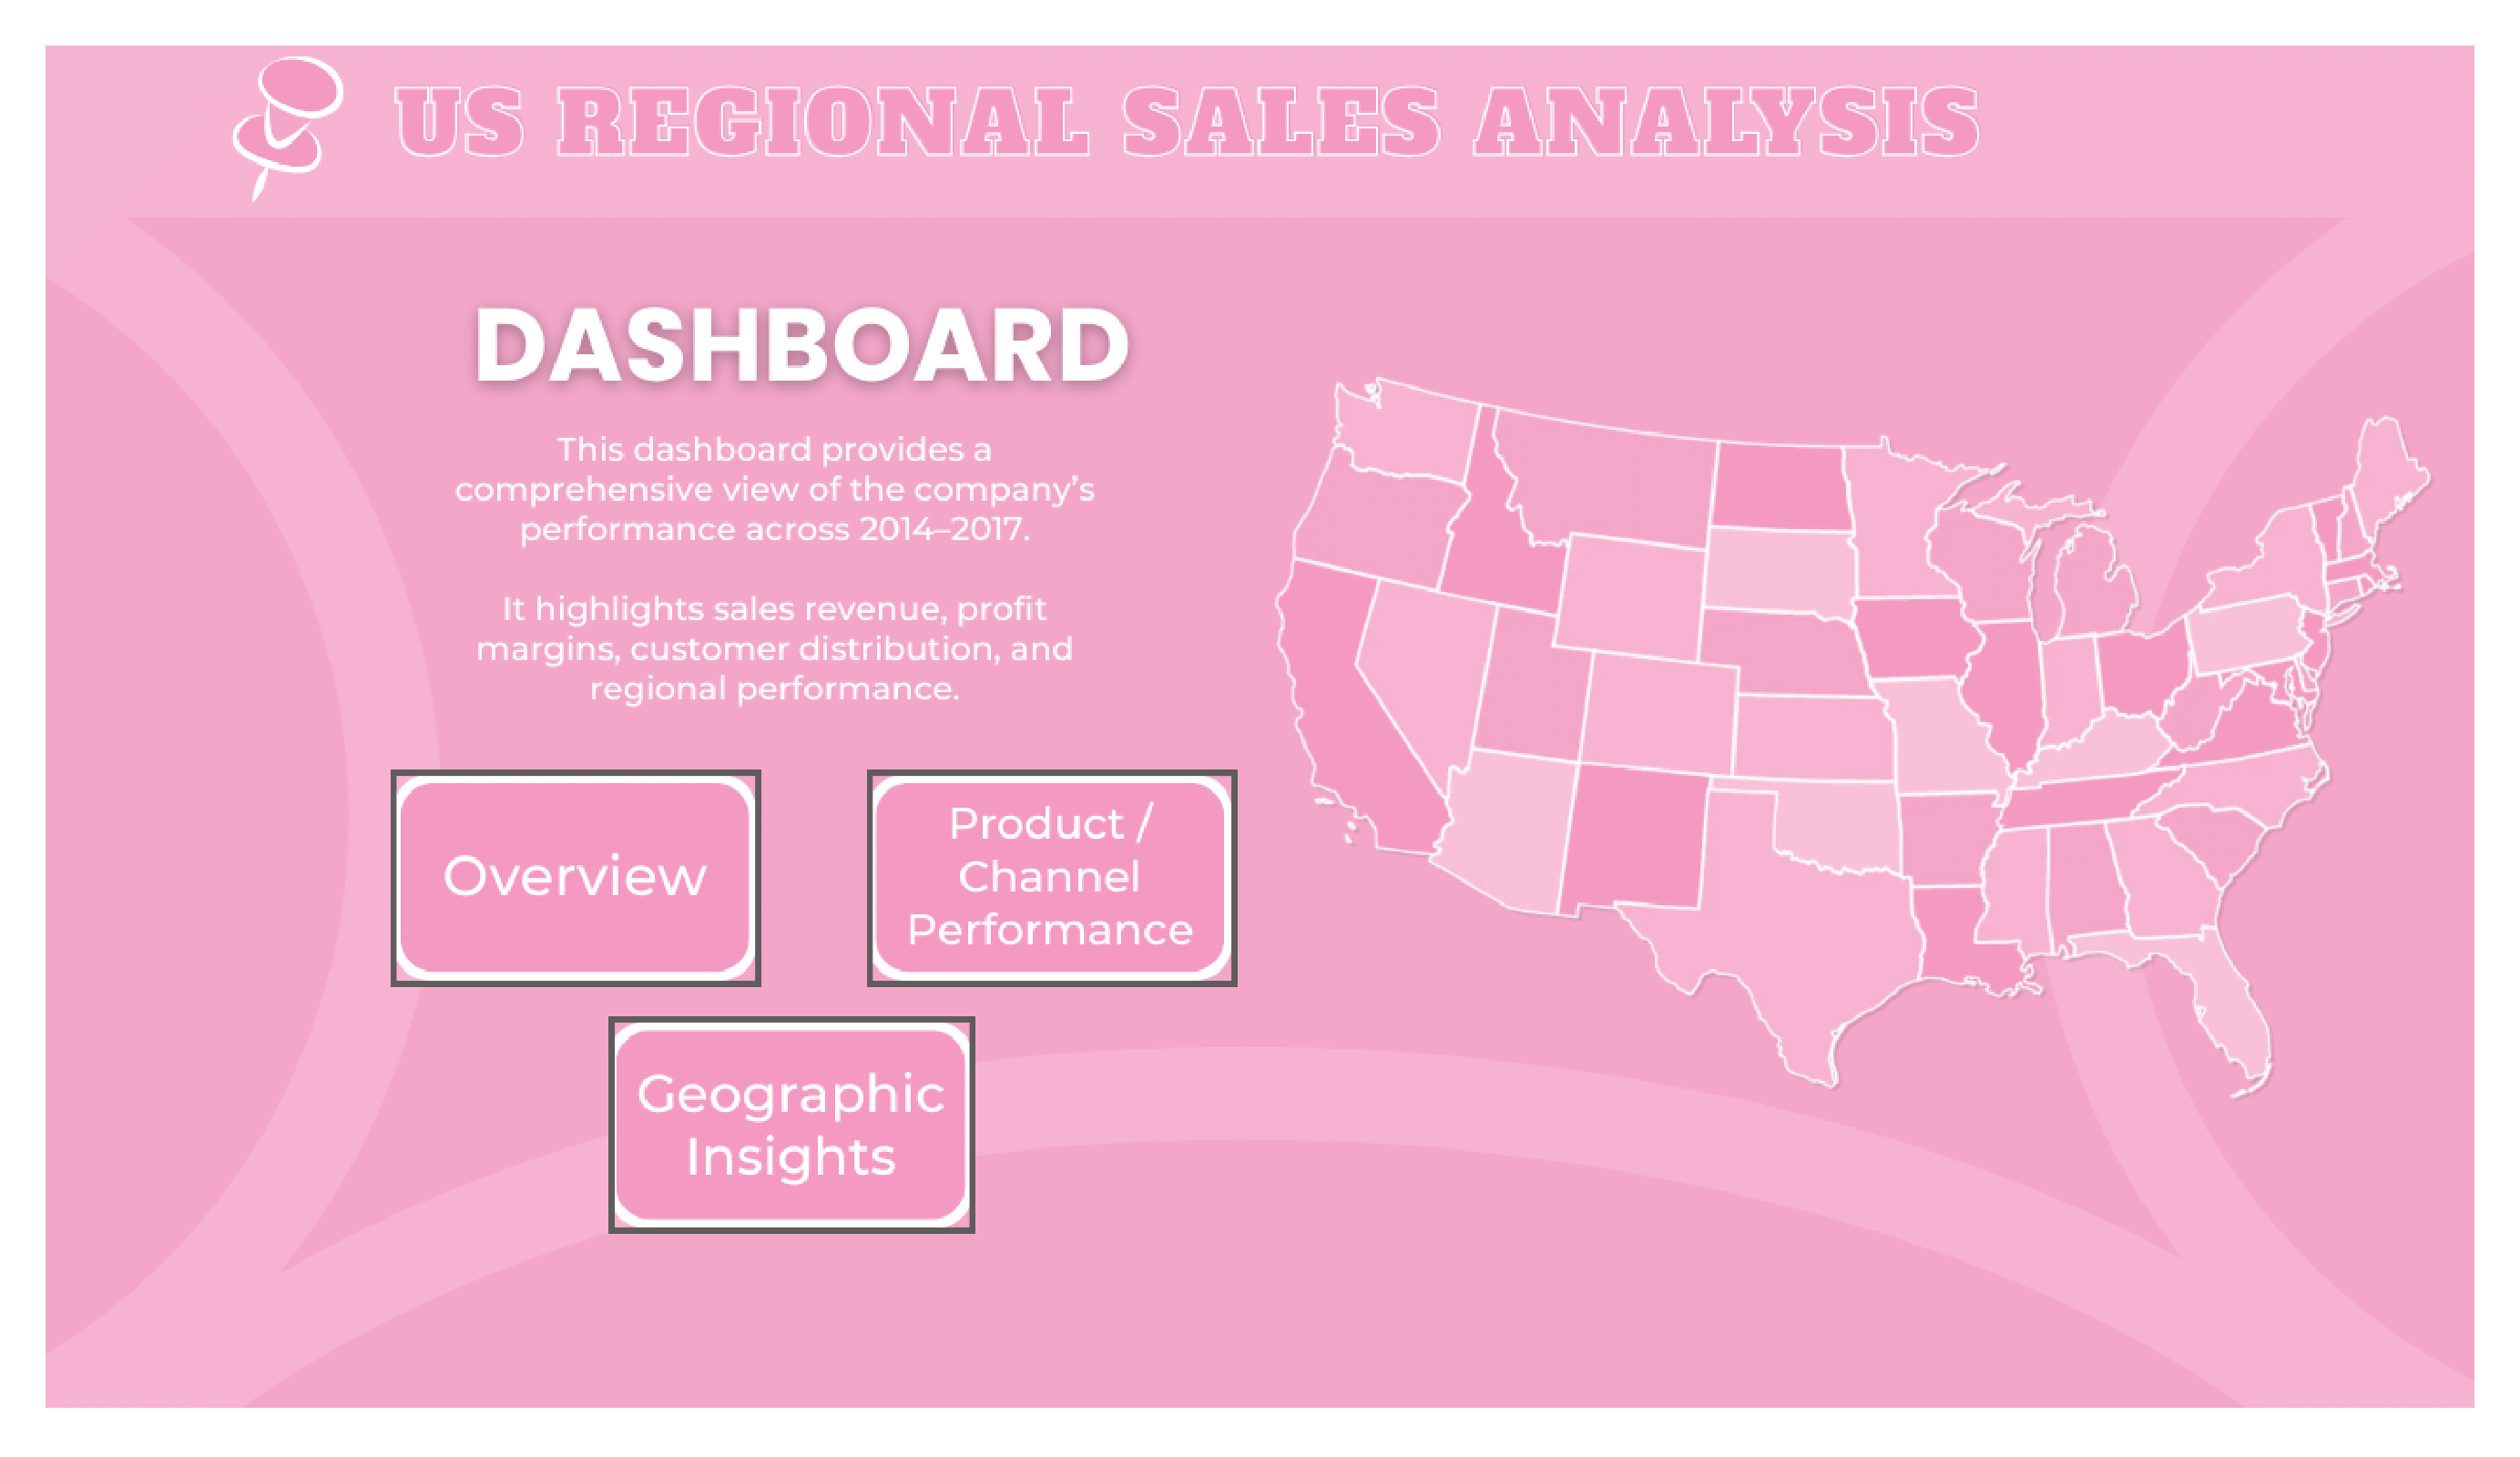

The page's visual inventory and layout, read from the dashboard file:
{"tool":"powerbi","page":{"name":"Home","canvas":[1280,720],"ordinal":0},"visuals":[{"type":"actionButton","box":[182.2,382.2,194.4,113.3],"z":0},{"type":"actionButton","box":[433.3,382.2,194.4,113.3],"z":1000},{"type":"actionButton","box":[296.7,512.2,193.3,113.3],"z":2000}]}

Visuals, with their boxes on the page's 1280x720 design canvas (x1, y1, x2, y2). These are canvas units, not pixel positions in the 2520x1457 screenshot, which may show the page scaled, cropped or inside an application window:
actionButton: (182, 382, 377, 496)
actionButton: (433, 382, 628, 496)
actionButton: (297, 512, 490, 626)
